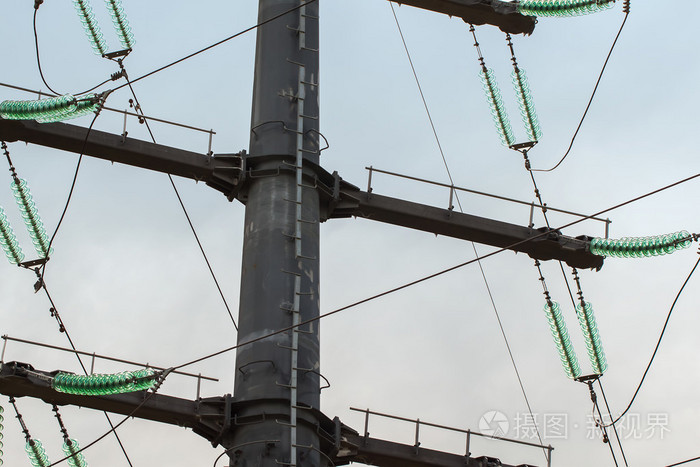insulator: (12, 177, 53, 260), (2, 92, 97, 126), (544, 300, 582, 380), (480, 65, 516, 147), (591, 229, 692, 258), (56, 368, 159, 396), (578, 299, 608, 376), (511, 66, 538, 142), (517, 1, 616, 20), (72, 1, 106, 56), (105, 1, 136, 50), (1, 210, 26, 264), (57, 437, 84, 467), (24, 437, 49, 467)
